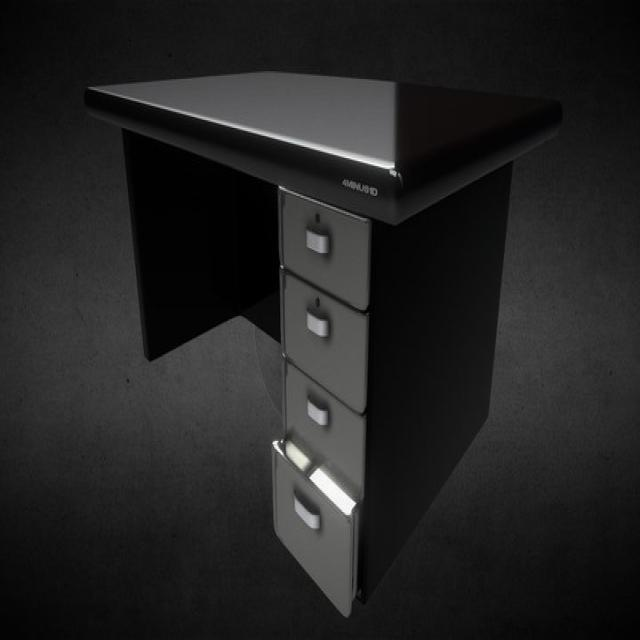table: (90, 68, 515, 620)
